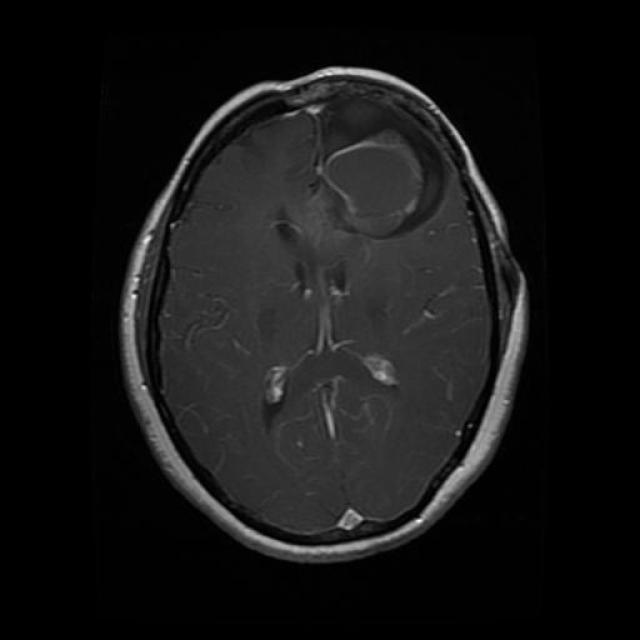Glioma: (321, 125, 425, 237)
